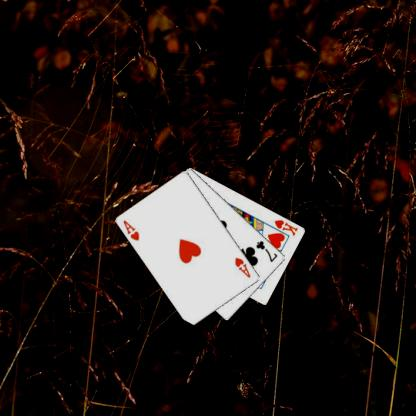7C: (253, 238, 279, 263)
AH: (120, 217, 141, 242), (233, 255, 252, 279)
KH: (272, 217, 299, 237)
